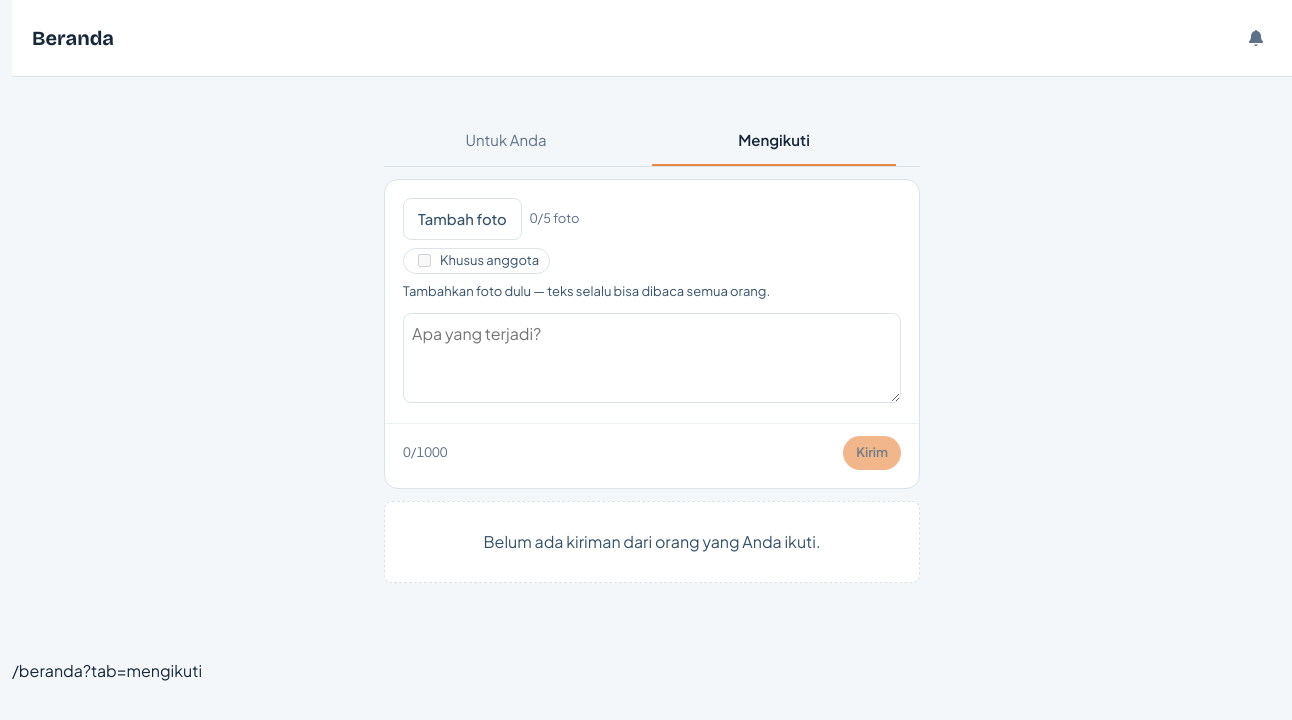
BerandaPage — signed in › does not add a new post to the Mengikuti list, and says where it went
Expected: the text "Belum ada kiriman dari orang yang Anda ikuti." is shown, x1=384 y1=501 x2=920 y2=583
Step 1. Type "kiriman baru" into the text box labelled "Apa yang terjadi?" → (652, 358), box x1=403 y1=313 x2=901 y2=403
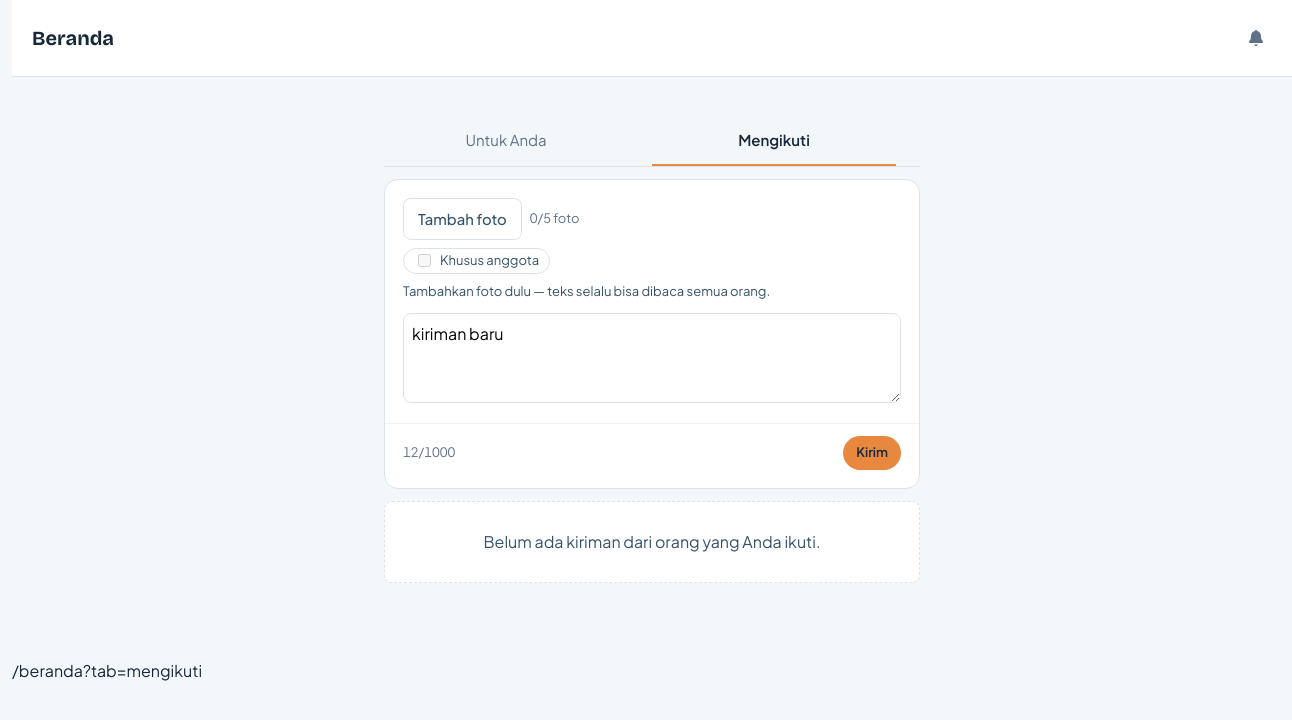
Step 2. Click the button "Kirim" → (872, 453), box x1=843 y1=436 x2=901 y2=470
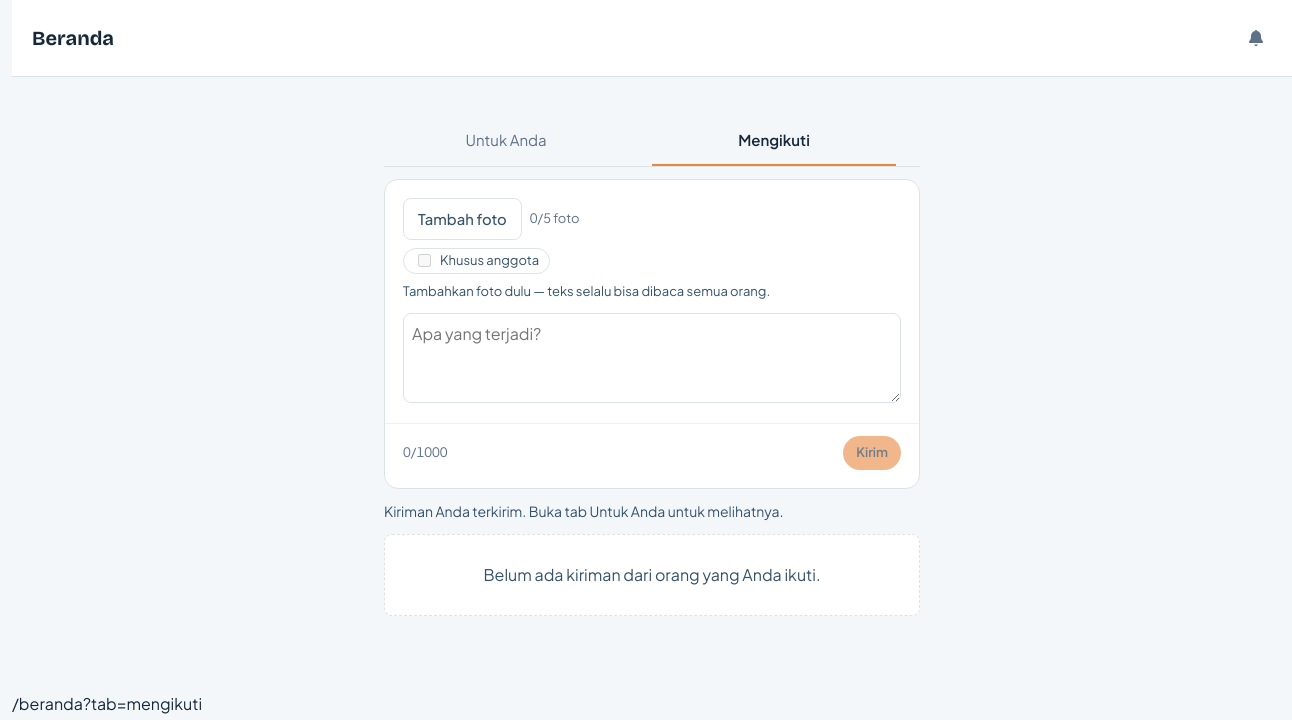
Expected: the text "Kiriman Anda terkirim. Buka tab Untuk Anda untuk melihatnya." is shown, x1=384 y1=502 x2=783 y2=520
